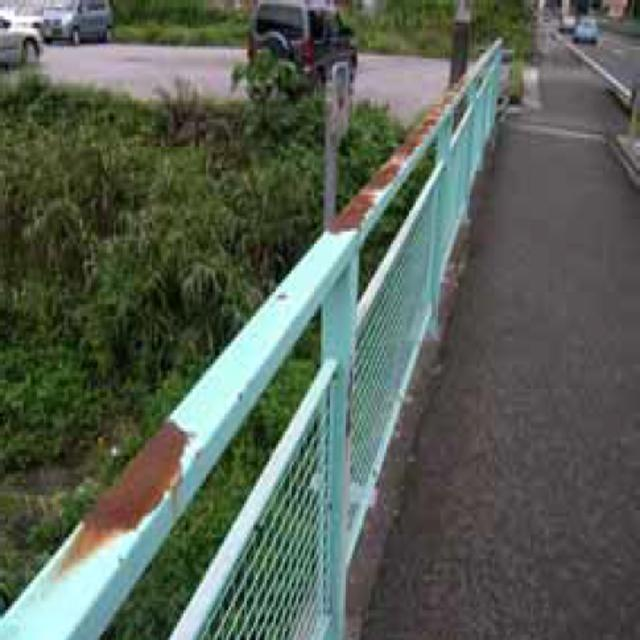corrosion: (337, 70, 473, 250), (69, 430, 194, 543)
